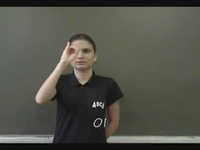oi: (58, 42, 81, 66)
